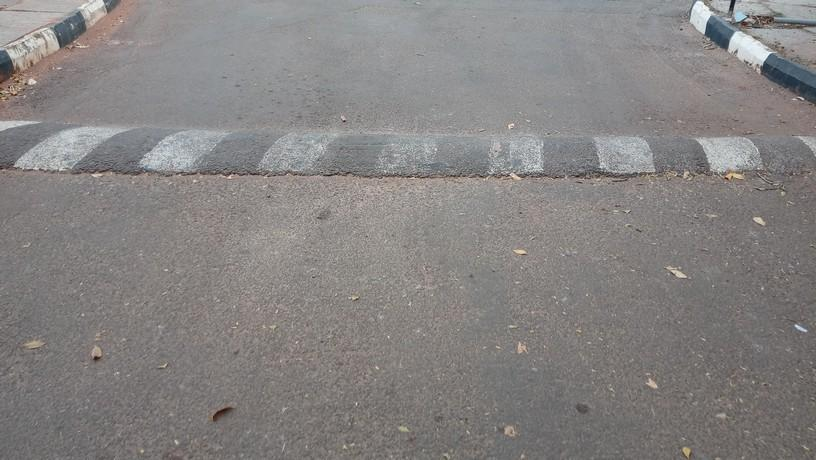speed-bump: (1, 114, 812, 177)
